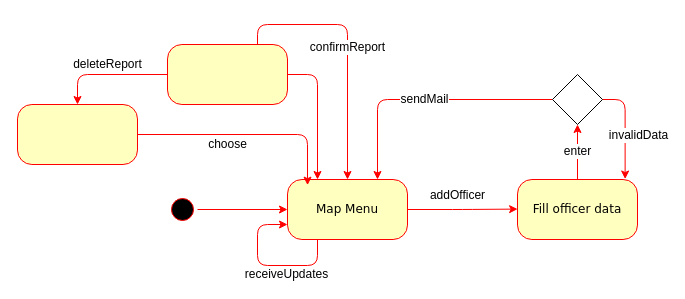
The diagram is 685 pixels wide and 299 high, and some of its shapes have lost their labels. Here are the shapes that lost their labels. From the top down, the centre of each, then its label:
At pixel 227 74: "Report Menu".
At pixel 77 134: "Send ban request?".
